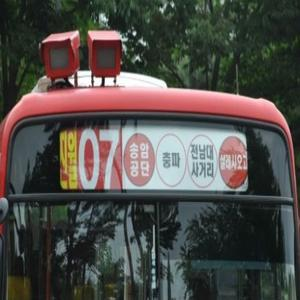07bus: (8, 43, 299, 300)
